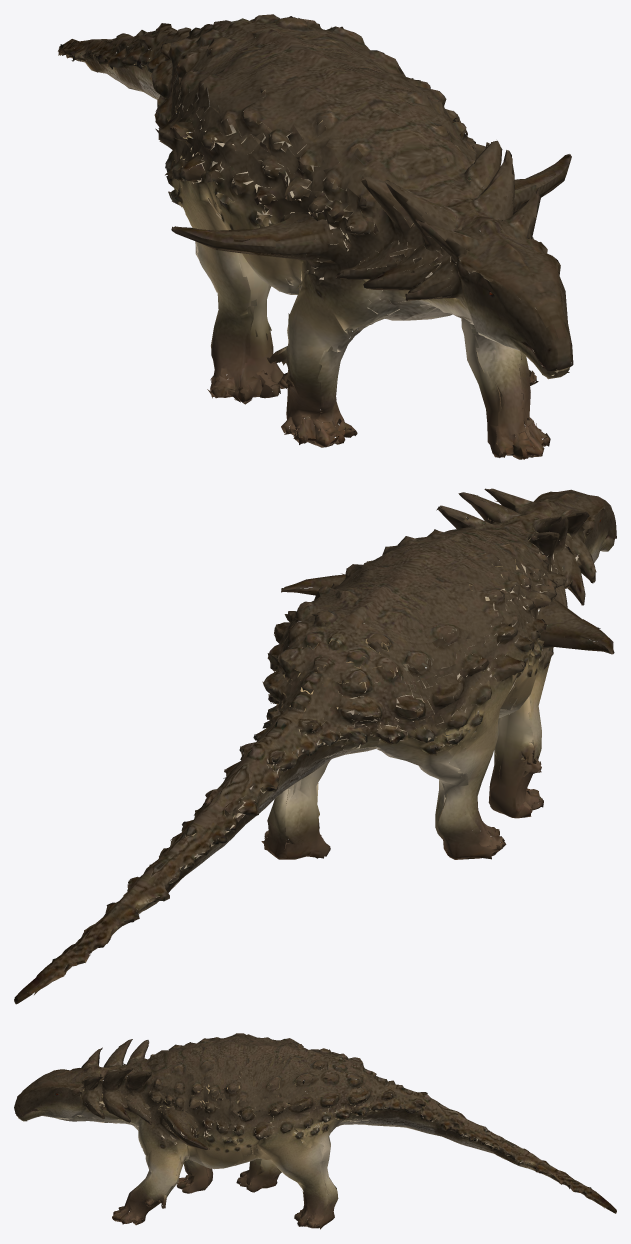
The model's file is sauropelta_parado.glb.
3 renders of one model, top to bottom at view 1: azimuth 30°, elevation 25°; view 2: azimuth 150°, elevation 25°; view 3: azimuth 270°, elevation 25°, orthographic. The views are drawn at different scales.
Parts seen in each view (by area): view 1: Object_38_fixo; view 2: Object_38_fixo; view 3: Object_38_fixo.
Part boxes in pixels (left/top/right/bottom): Object_38_fixo: left=58, top=14, right=573, bottom=459; Object_38_fixo: left=14, top=488, right=616, bottom=1004; Object_38_fixo: left=14, top=1033, right=616, bottom=1229.
Size of the model in its own units: 5.18 by 3.98 by 13.61.
1 material, 1 textured.
